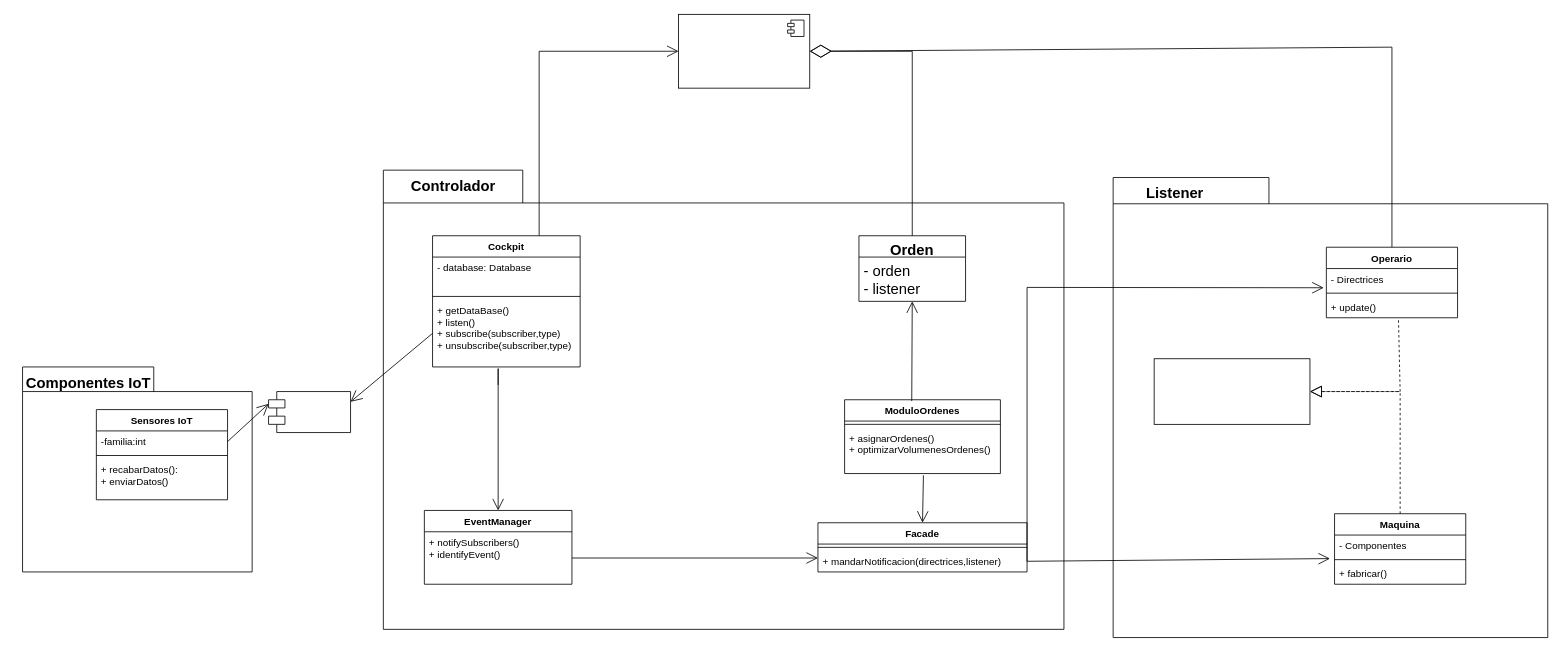
This 1562x652 diagram has some shape labels left out. The shapes that lost their labels are listed below. From the top down, each one's centre as x and y in pixels, then its label:
(744,51): «Component» Database
(1231,391): <<Interface>> Notificacion + recibirNotificacion()
(309,412): API Sensores
